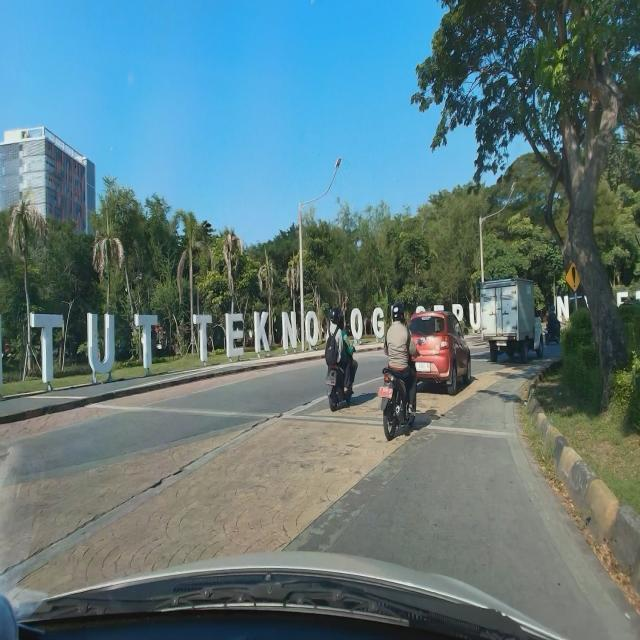car: (401, 310, 472, 396)
license-plate: (415, 362, 431, 372), (496, 340, 507, 347)
truck: (480, 277, 544, 363)
